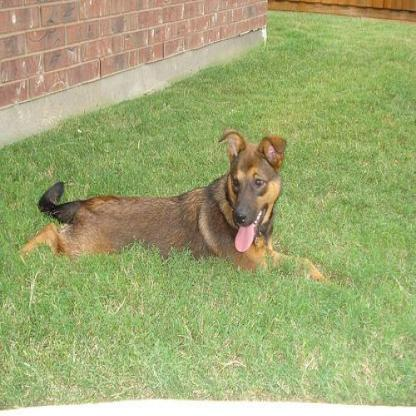malinois: (17, 126, 324, 284)
